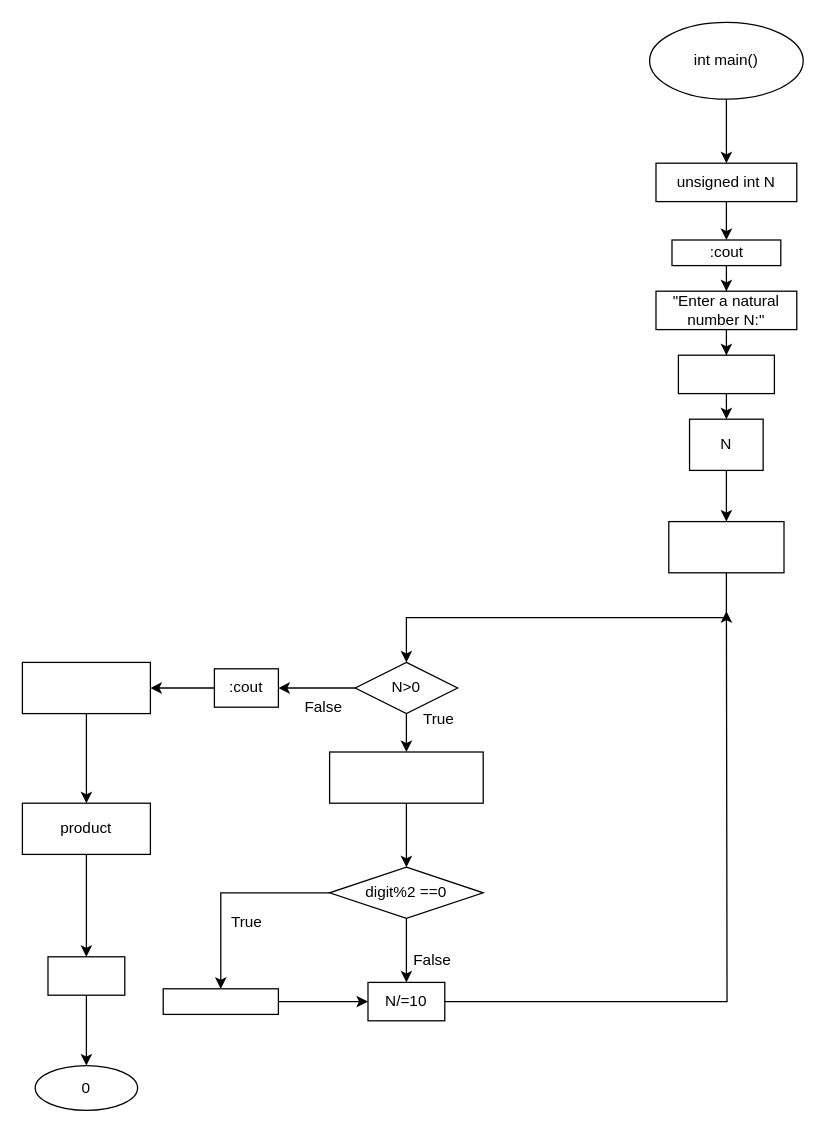
The diagram is 826 pixels wide and 1133 high, and some of its shapes have lost their labels. The shapes that lost their labels are listed below. From the top down, each one's centre as x and y in pixels, then its label:
At (x=725, y=374): ":cin".
At (x=726, y=546): "int product =1".
At (x=85, y=687): "Product of even degits in the entered number".
At (x=405, y=777): "int degit = N%10".
At (x=86, y=975): ":endl".
At (x=220, y=1001): "product=degit".
